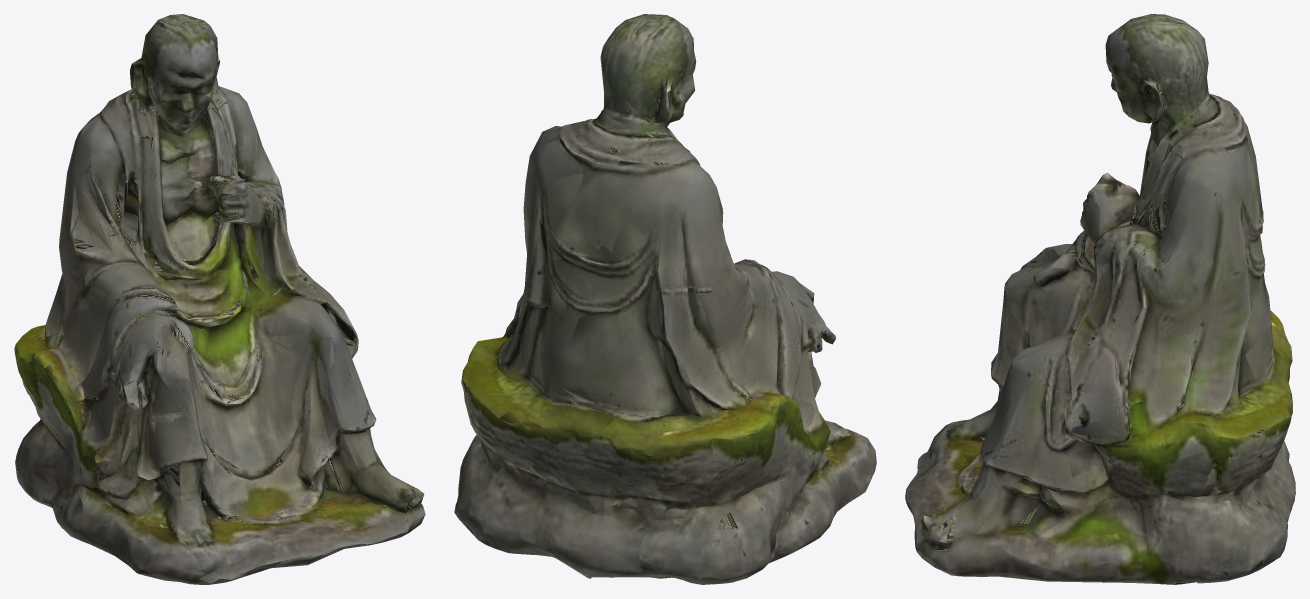
File: temple_monk_statue.glb
3 renders of one model, left to right at view 1: azimuth 30°, elevation 25°; view 2: azimuth 150°, elevation 25°; view 3: azimuth 270°, elevation 25°, orthographic. The views are drawn at different scales.
Parts seen in each view (by area): view 1: file1, file1_lod; view 2: file1, file1_lod; view 3: file1, file1_lod.
Part boxes in pixels (left/top/right/bottom): file1: left=14, top=14, right=425, bottom=584; file1_lod: left=15, top=14, right=425, bottom=584; file1: left=454, top=14, right=876, bottom=584; file1_lod: left=455, top=15, right=874, bottom=583; file1: left=905, top=14, right=1295, bottom=584; file1_lod: left=906, top=18, right=1294, bottom=584.
Bounding box in the file's own units: 1.89 × 3 × 2.08.
1 material, 1 textured.
